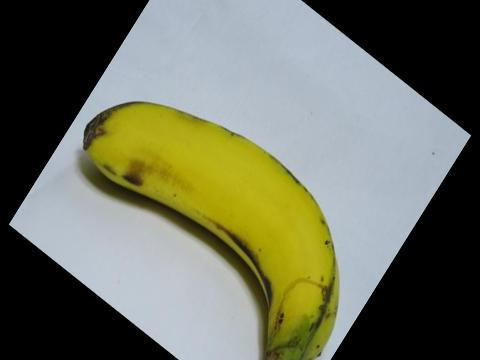freshripe: (73, 92, 352, 359)
